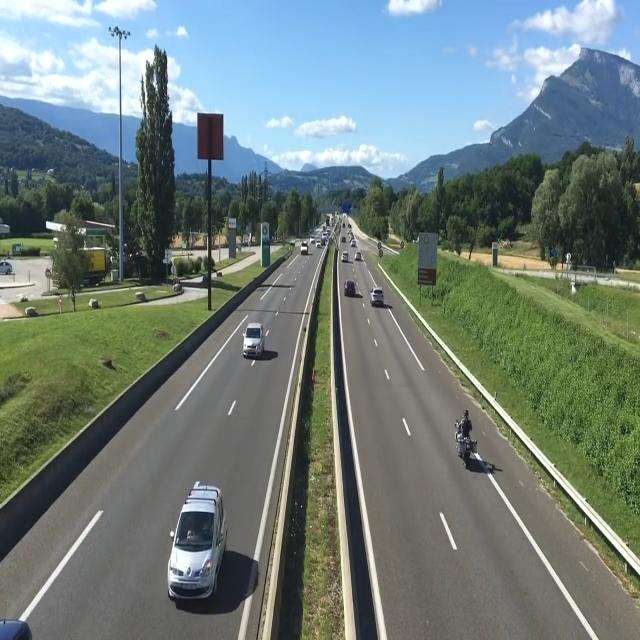Car: (165, 486, 228, 604), (242, 324, 265, 355), (370, 286, 384, 306), (344, 280, 357, 296), (0, 261, 14, 275), (341, 252, 349, 262), (354, 251, 362, 260), (316, 240, 321, 249)
Cycle: (451, 418, 478, 463), (194, 389, 202, 389)
